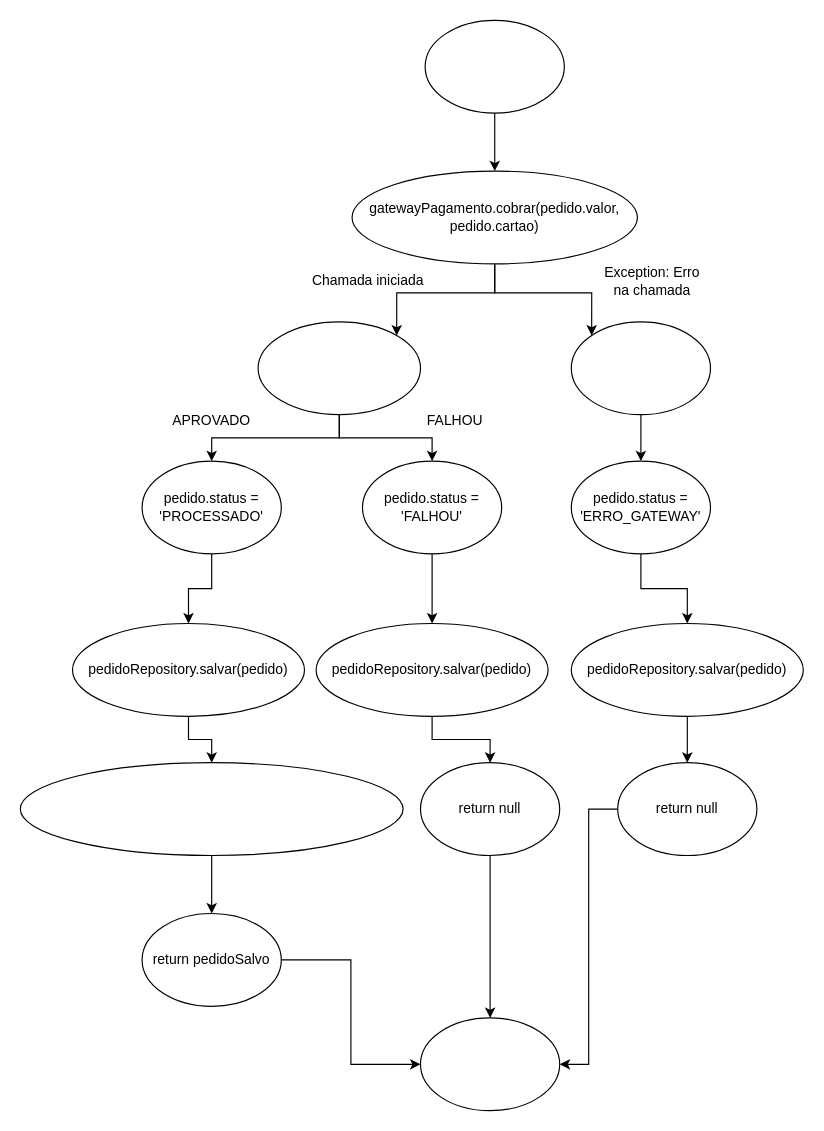
This 824x1131 diagram has some shape labels left out. The centre of each missing label's shape, as x and y in pixels:
catch (error): the point at 640,368
emailService.enviarConfirmacao(pedido.clienteEmail, "Pagamento Aprovado"): the point at 211,808
FIM: the point at 489,1064
if resposta.status === 'APROVADO': the point at 338,368
Inicio processar(pedido): the point at 494,66
